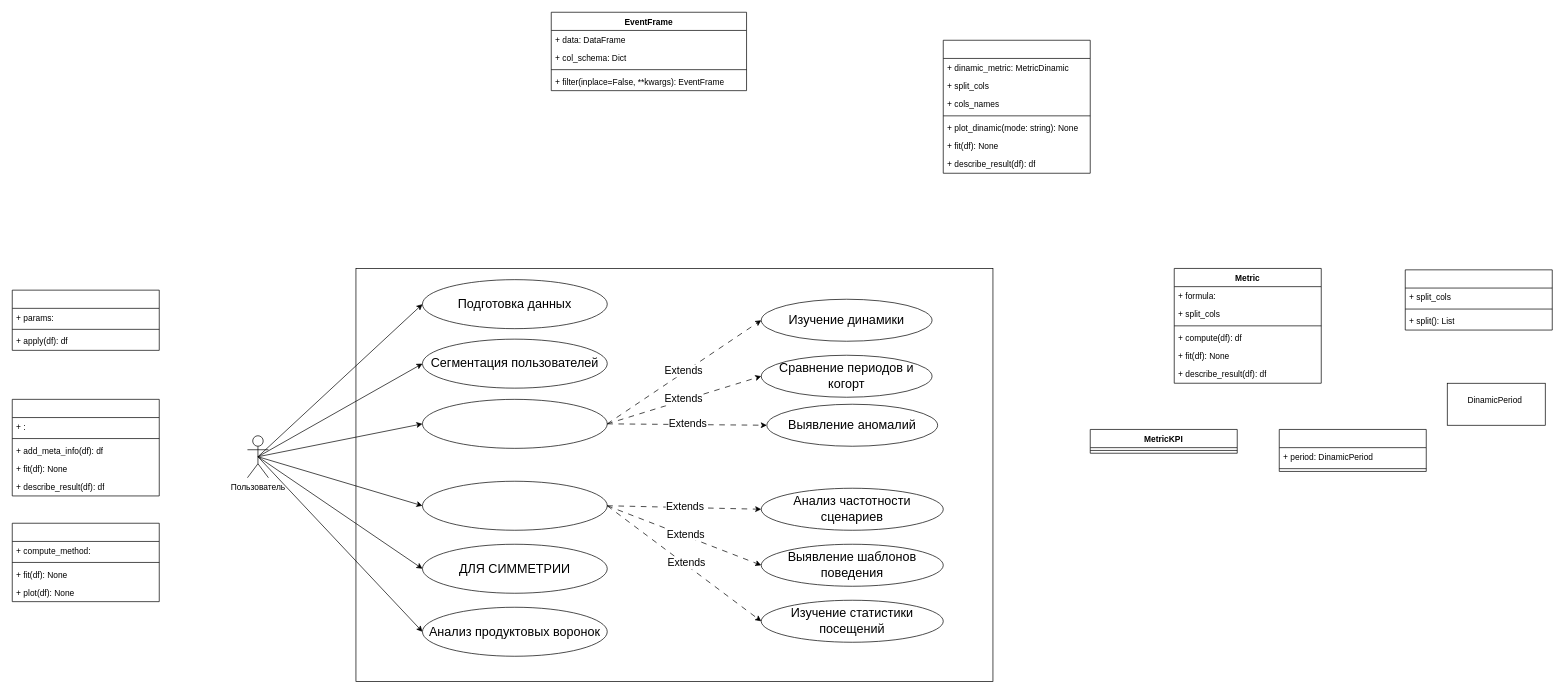
This 1565x694 diagram has some shape labels left out. The box of each missing label's shape, as (x1, y1, x2, y2) in pixels:
ClusterAnalyzer: (12, 399, 159, 496)
ColumnsSplitter: (1405, 269, 1552, 330)
DataPreprocessor: (12, 289, 159, 350)
Funnel: (12, 523, 159, 602)
MetricDinamic: (1279, 429, 1426, 471)
Plotter: (943, 40, 1090, 173)
Анализ продуктовых метрик: (422, 399, 607, 448)
Исследование пользовательского опыта: (422, 481, 607, 530)
